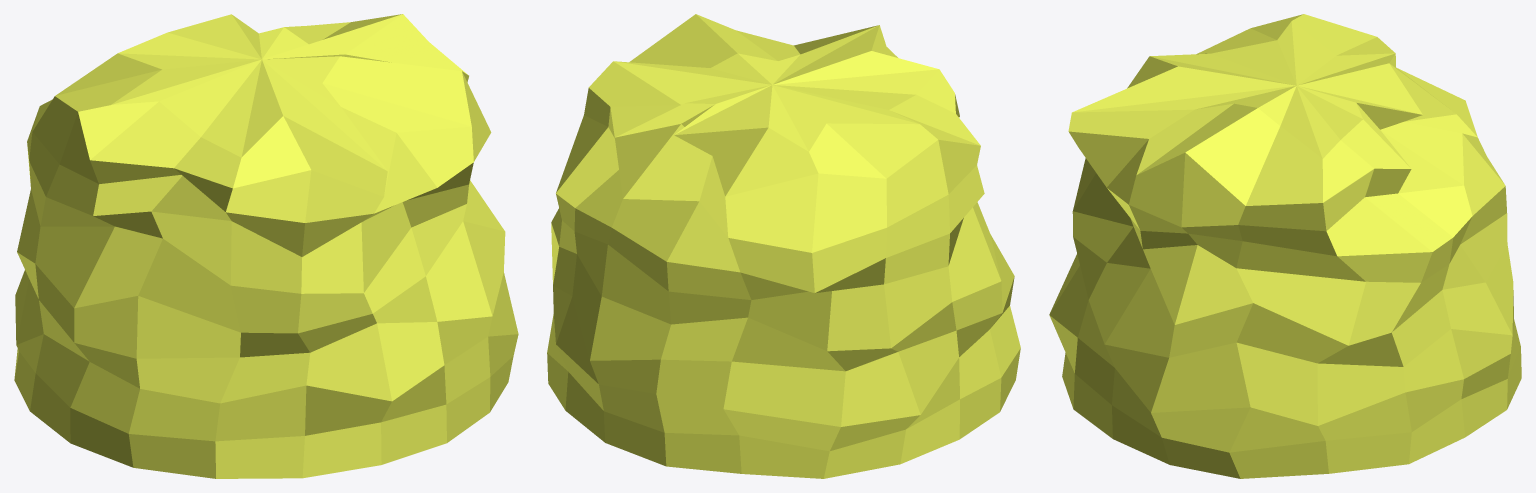
File: Heypile.fbx
The picture shows the model from 3 angles, left to right: view 1: azimuth 30°, elevation 25°; view 2: azimuth 150°, elevation 25°; view 3: azimuth 270°, elevation 25°; orthographic projection. The views are drawn at different scales.
Parts seen in each view (by area): view 1: Heypile; view 2: Heypile; view 3: Heypile.
Part boxes in pixels (left/top/right/bottom): Heypile: left=14, top=14, right=518, bottom=478; Heypile: left=547, top=14, right=1020, bottom=478; Heypile: left=1049, top=14, right=1521, bottom=478.
Size of the model in its own units: 231 by 165 by 234.
Materials: 1 (1 with a texture image).
